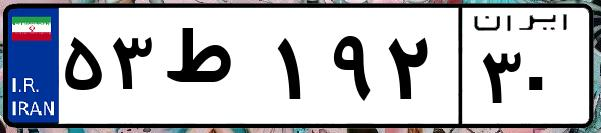0: (525, 38, 570, 115)
1: (270, 28, 330, 110)
2: (385, 28, 445, 110)
3: (475, 38, 525, 113), (110, 28, 158, 98)
5: (57, 26, 110, 100)
9: (330, 28, 385, 110)
ط: (158, 20, 270, 120)
